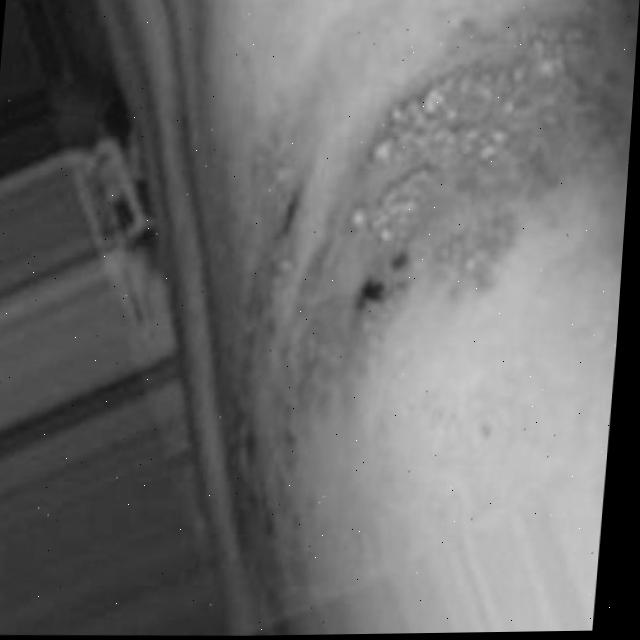Shingles: (195, 10, 621, 523)
